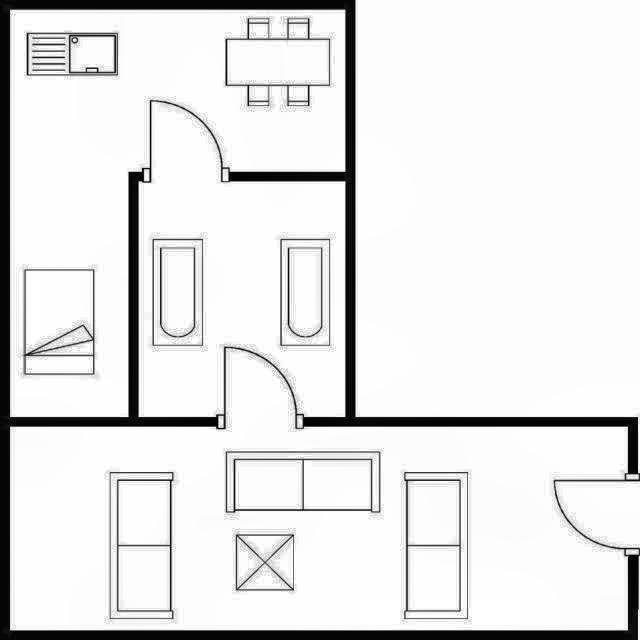room: (11, 7, 344, 417), (11, 426, 627, 629), (139, 182, 344, 416)
